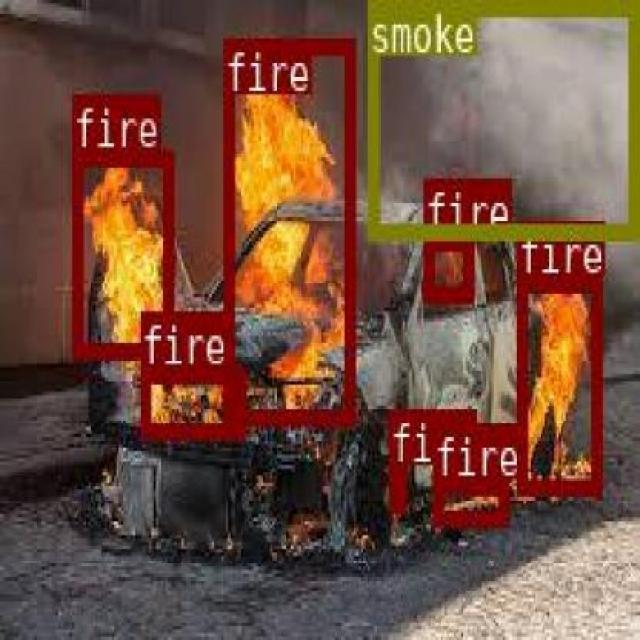Fire: (223, 37, 352, 420), (70, 148, 172, 354), (515, 276, 600, 490), (138, 364, 244, 434), (422, 231, 470, 300), (432, 478, 506, 522), (388, 462, 403, 508)
Smoke: (368, 0, 636, 234)
